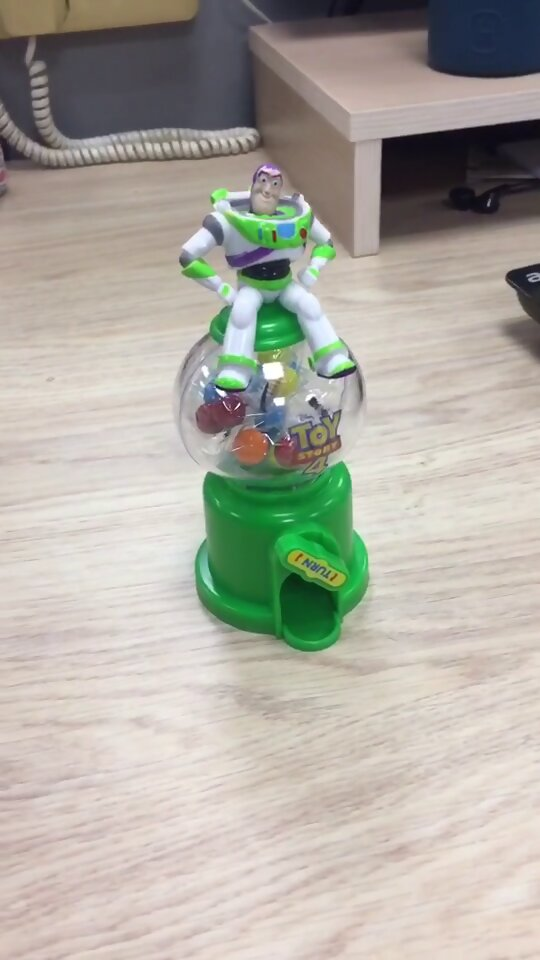buzz: (169, 159, 375, 655)
